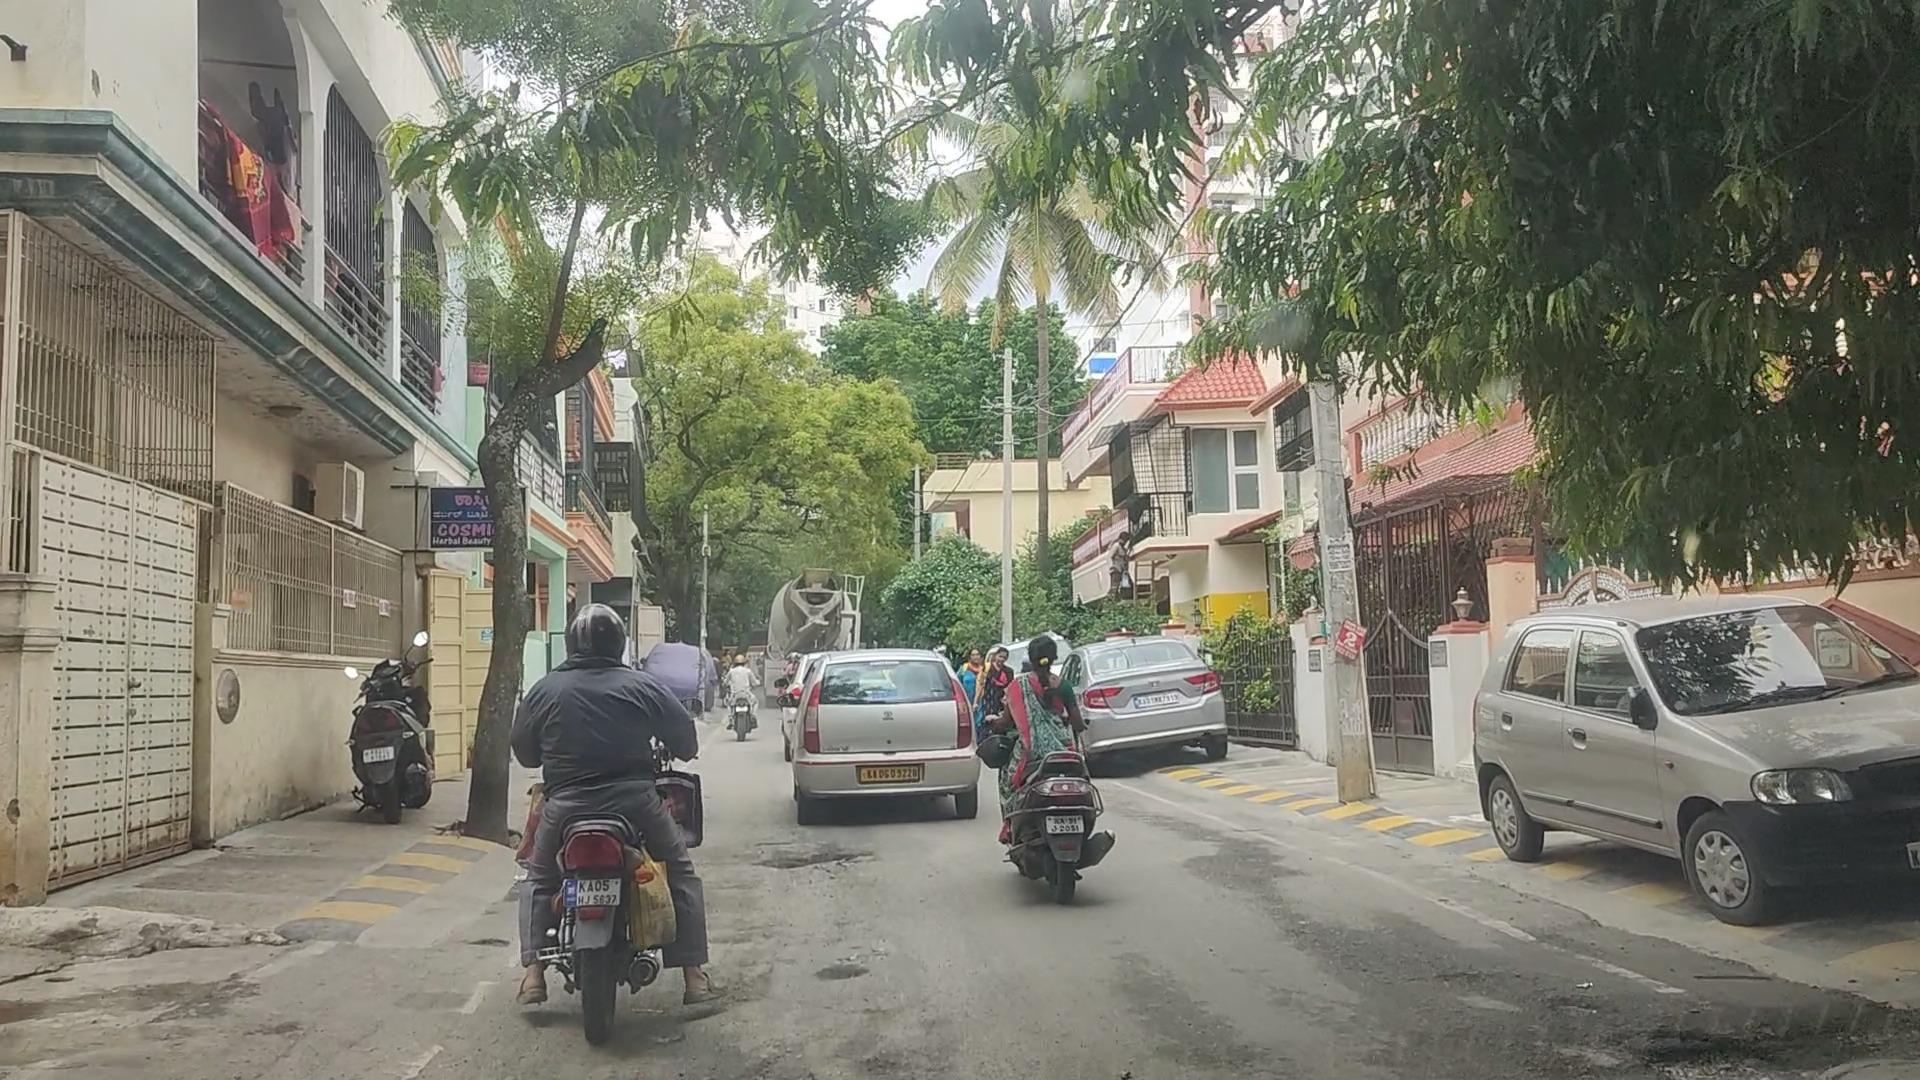LMV: (500, 588, 684, 1033), (793, 649, 981, 818), (1006, 637, 1093, 882)
RoadDamages: (762, 837, 881, 882)
